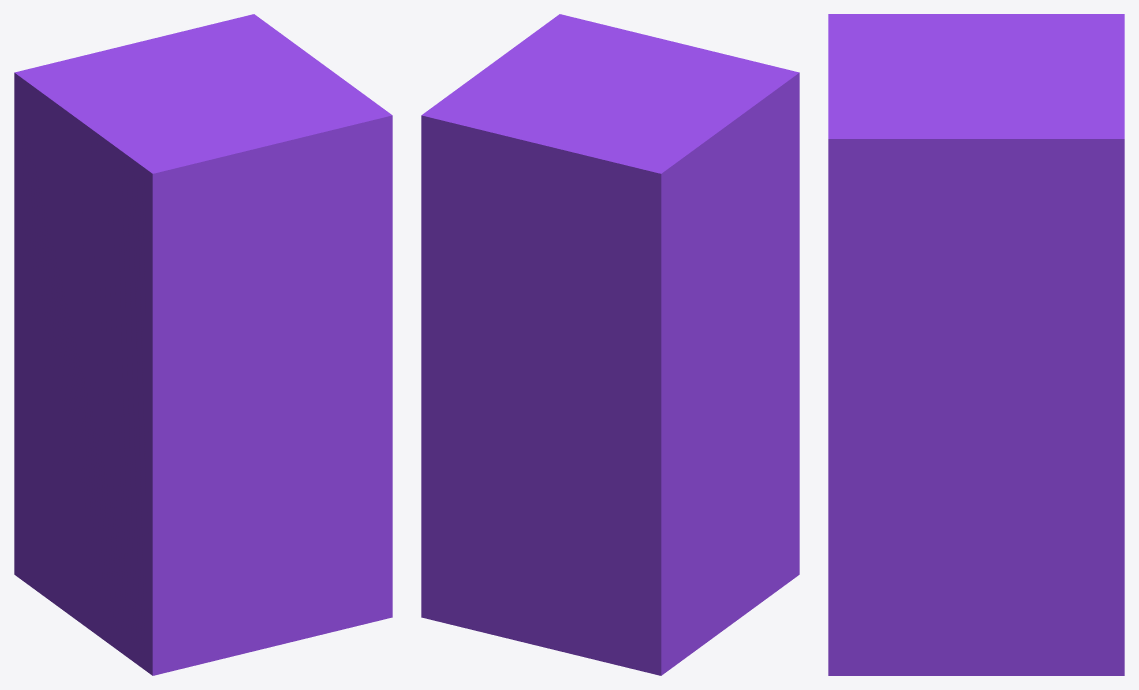
Rendered from MagentaNormalEdge.fbx.
The picture shows the model from 3 angles, left to right: view 1: azimuth 30°, elevation 25°; view 2: azimuth 150°, elevation 25°; view 3: azimuth 270°, elevation 25°; orthographic projection. The views are drawn at different scales.
Parts seen in each view (by area): view 1: LED option2.005; view 2: LED option2.005; view 3: LED option2.005.
Boxes of the visible parts, x1,y1,x2,y2 form: LED option2.005: (14, 14, 392, 675); LED option2.005: (421, 14, 799, 675); LED option2.005: (828, 14, 1124, 675).
Bounding box in the file's own units: 100 × 200 × 100.
